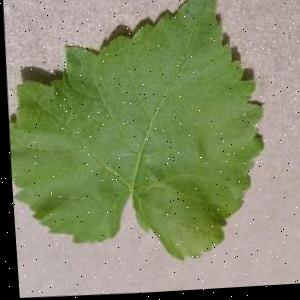Folha: (0, 0, 273, 272)
